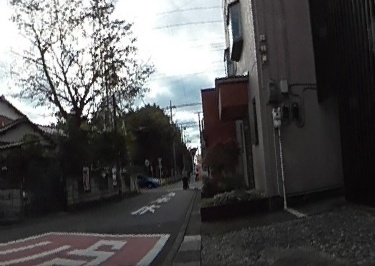person: (180, 164, 191, 189)
